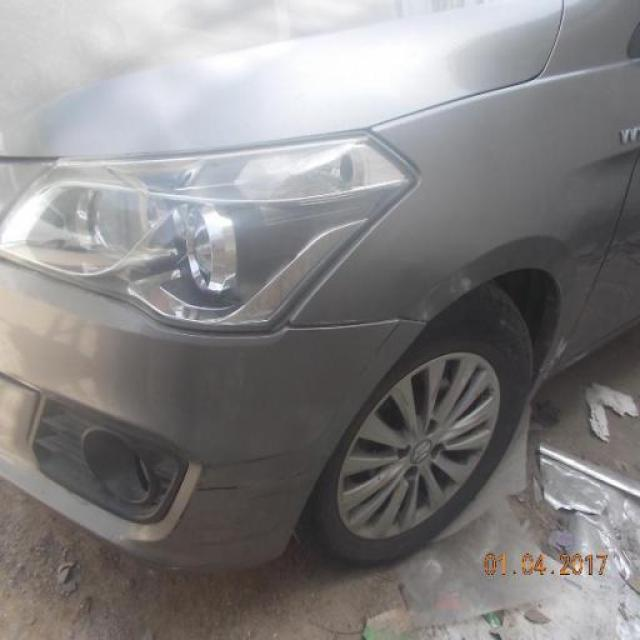misalignment: (277, 314, 428, 337)
scratch: (352, 284, 438, 384), (175, 445, 288, 519)
